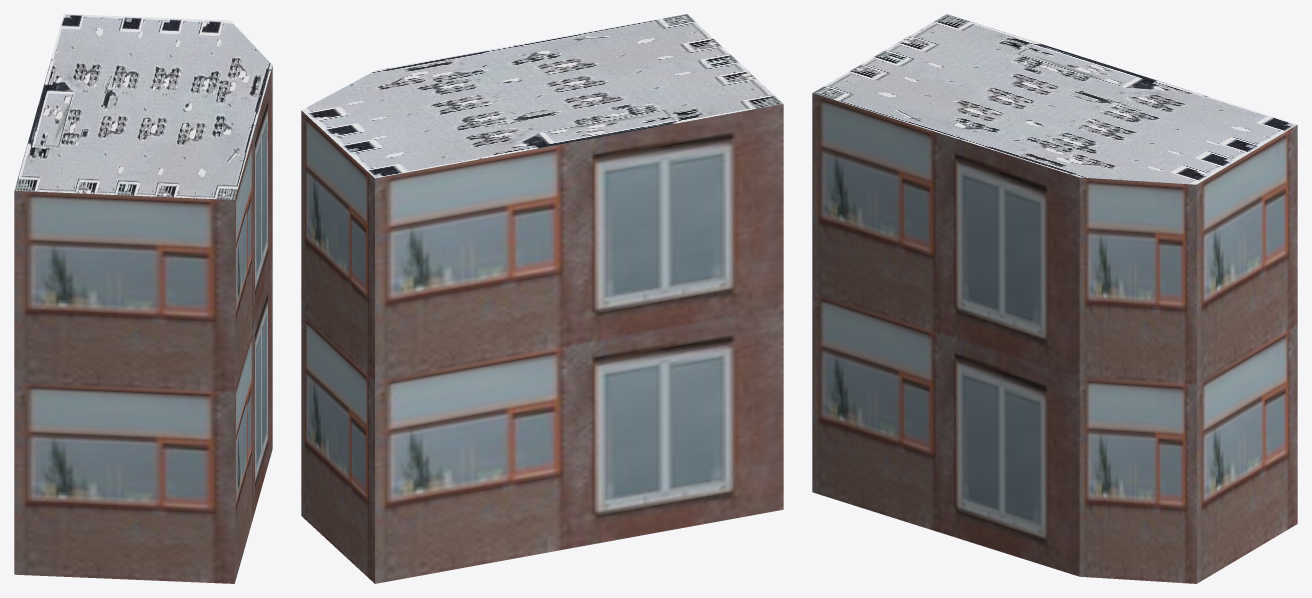
The model's file is ResTex__3918.fbx.
3 views of the same model, side by side, from view 1: azimuth 30°, elevation 25°; view 2: azimuth 150°, elevation 25°; view 3: azimuth 270°, elevation 25° (orthographic). The views are drawn at different scales.
Parts seen in each view (by area): view 1: CityEngineMaterial_19_m, CityEngineMaterial_15_m; view 2: CityEngineMaterial_19_m, CityEngineMaterial_15_m; view 3: CityEngineMaterial_19_m, CityEngineMaterial_15_m.
Part boxes in pixels (x1,y1,x2,y2): CityEngineMaterial_19_m: (14, 66, 272, 583); CityEngineMaterial_15_m: (14, 14, 272, 199); CityEngineMaterial_19_m: (301, 104, 783, 583); CityEngineMaterial_15_m: (301, 14, 782, 178); CityEngineMaterial_19_m: (812, 93, 1297, 583); CityEngineMaterial_15_m: (813, 14, 1296, 184).
Size of the model in its own units: 5.5 by 6 by 6.61.
2 materials, 2 textured.
